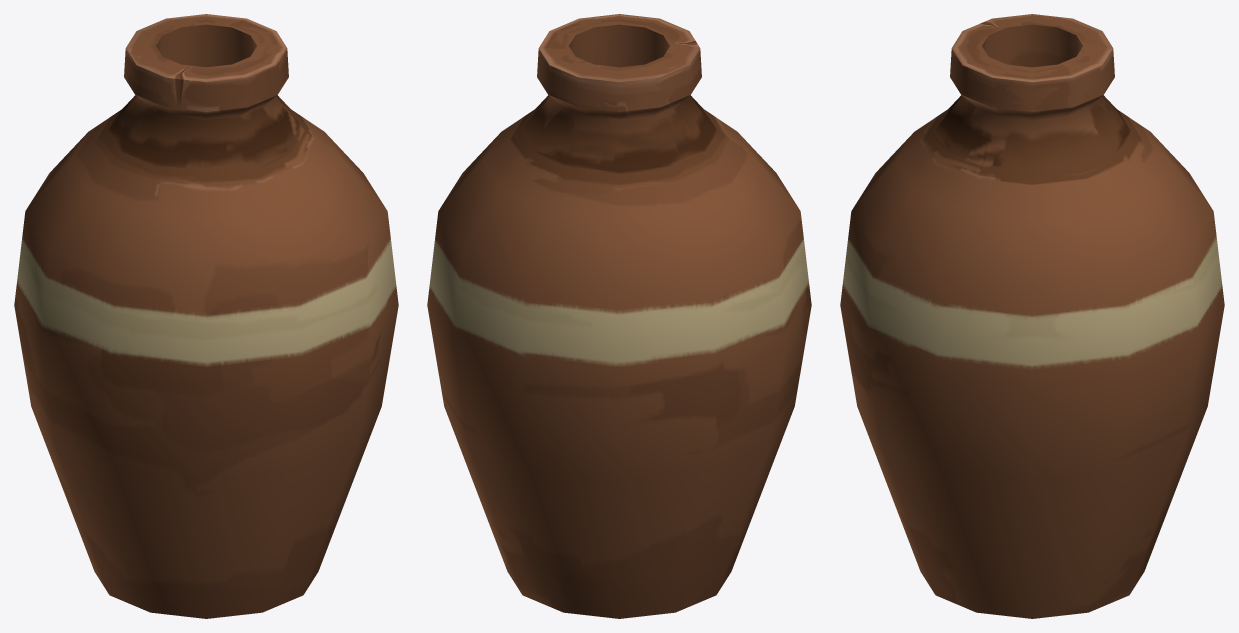
The model's file is SM_PROP_pot_interior_01.fbx.
The picture shows the model from 3 angles, left to right: view 1: azimuth 30°, elevation 25°; view 2: azimuth 150°, elevation 25°; view 3: azimuth 270°, elevation 25°; orthographic projection.
Visible parts, largest first — view 1: SM_PROP_pot_interior_01; view 2: SM_PROP_pot_interior_01; view 3: SM_PROP_pot_interior_01.
Boxes of the visible parts, x1,y1,x2,y2 form: SM_PROP_pot_interior_01: (14, 14, 398, 618); SM_PROP_pot_interior_01: (427, 14, 811, 618); SM_PROP_pot_interior_01: (840, 14, 1224, 618).
Bounding box in the file's own units: 42.52 × 64.15 × 42.52.
